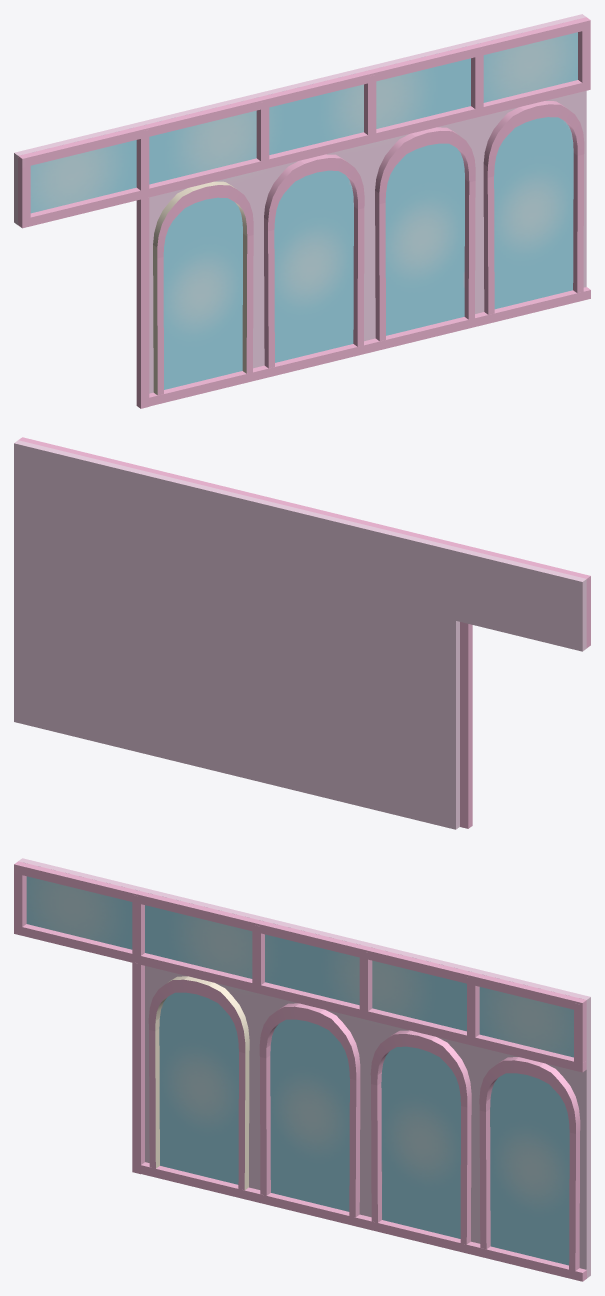
Rendered from walls shop.fbx.
3 views of the same model, one above another, from view 1: azimuth 30°, elevation 25°; view 2: azimuth 150°, elevation 25°; view 3: azimuth 330°, elevation 25° (orthographic).
Visible parts, largest first — view 1: Shop_Window_Wall_UVS_1; view 2: Shop_Window_Wall_UVS_1; view 3: Shop_Window_Wall_UVS_1.
Boxes of the visible parts, <box> form: Shop_Window_Wall_UVS_1: <box>14,14,590,408</box>; Shop_Window_Wall_UVS_1: <box>14,437,590,829</box>; Shop_Window_Wall_UVS_1: <box>14,858,590,1281</box>.
Size of the model in its own units: 1356 by 635 by 37.33.
1 material, 1 textured.
